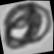correct: (0, 0, 53, 51)
